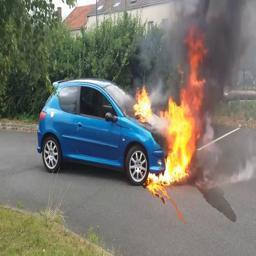fire: (133, 24, 208, 185)
